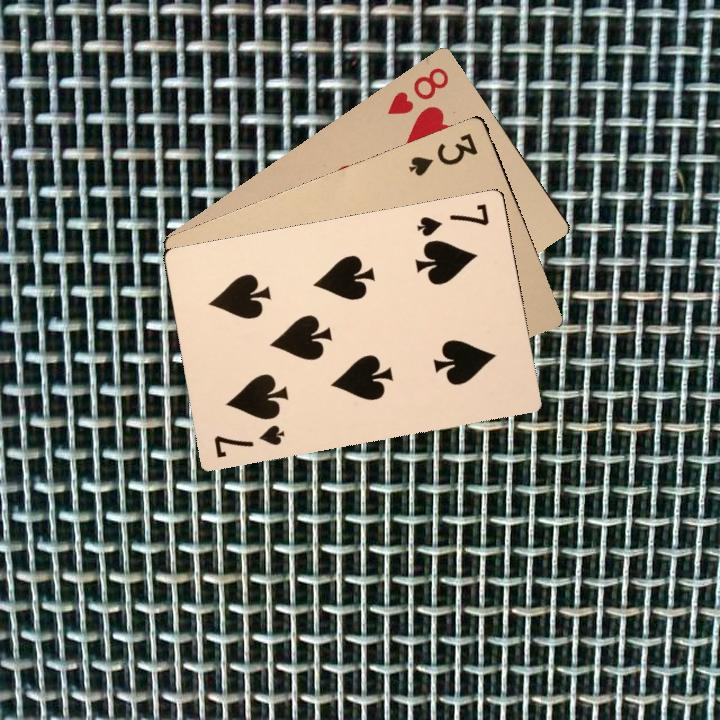3s: (404, 129, 480, 179)
7s: (413, 199, 492, 239), (210, 421, 287, 461)
8h: (383, 63, 452, 118)
